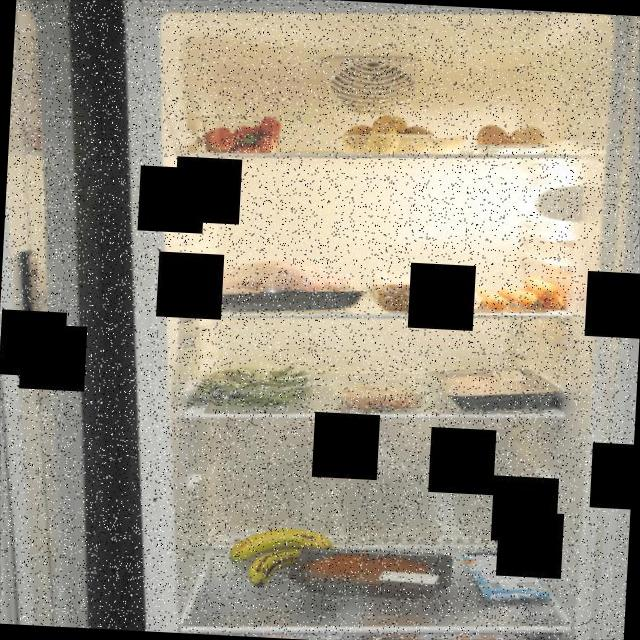Carne pollo: (190, 247, 372, 320), (426, 360, 566, 417)
Carne vacuno: (282, 538, 460, 612)
Gambas/Langostinos: (332, 378, 432, 418)
Huevos: (473, 118, 549, 156)
Patata: (337, 106, 471, 164)
Plátano: (220, 520, 352, 596)
Zanahoria: (463, 267, 569, 316)
bread: (368, 273, 467, 317)
chocolate: (454, 544, 554, 608)
green_beans: (187, 356, 336, 416)
strawberries: (197, 109, 287, 159)
